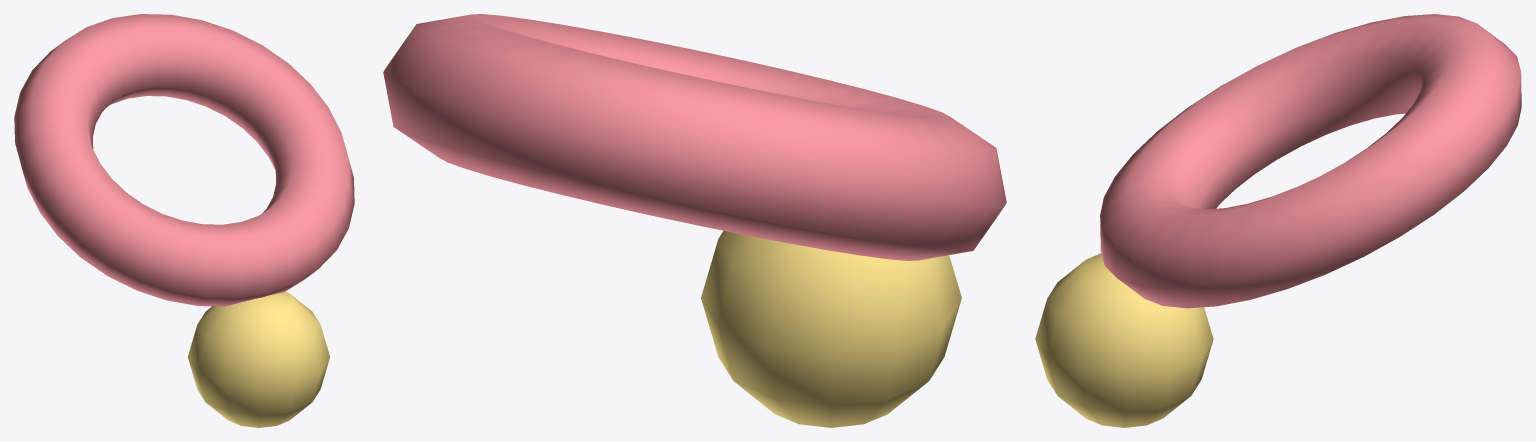
The model's file is fawn_bell.glb.
3 renders of one model, left to right at view 1: azimuth 30°, elevation 25°; view 2: azimuth 150°, elevation 25°; view 3: azimuth 270°, elevation 25°, orthographic. The views are drawn at different scales.
Visible parts, largest first — view 1: fawn_bell; view 2: fawn_bell; view 3: fawn_bell.
Boxes of the visible parts, bbox=[...] form: fawn_bell: bbox=[14, 14, 354, 427]; fawn_bell: bbox=[383, 14, 1006, 427]; fawn_bell: bbox=[1035, 14, 1521, 427].
Size of the model in its own units: 0.65 by 0.6185 by 0.7362.
